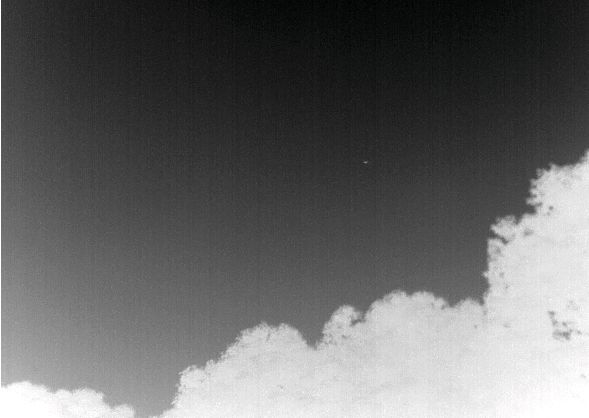dim target: (362, 159, 369, 165)
